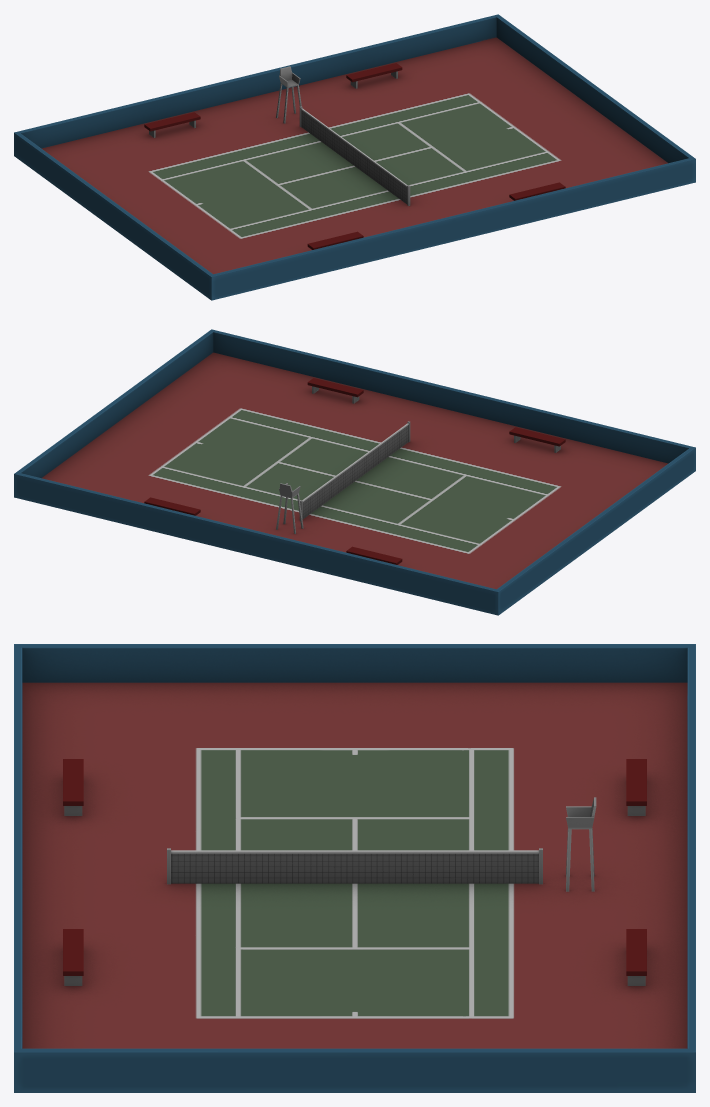
File: TennisCourt.gltf
The picture shows the model from 3 angles, top to bottom: view 1: azimuth 30°, elevation 25°; view 2: azimuth 150°, elevation 25°; view 3: azimuth 270°, elevation 25°; orthographic projection. The views are drawn at different scales.
Visible parts, largest first — view 1: node-0; view 2: node-0; view 3: node-0.
Boxes of the visible parts, left/top/right/bottom form: node-0: left=14, top=14, right=695, bottom=300; node-0: left=14, top=329, right=695, bottom=615; node-0: left=14, top=644, right=695, bottom=1092.
Bounding box in the file's own units: 24 × 2.39 × 16.95.
Materials: 1 (1 with a texture image).
